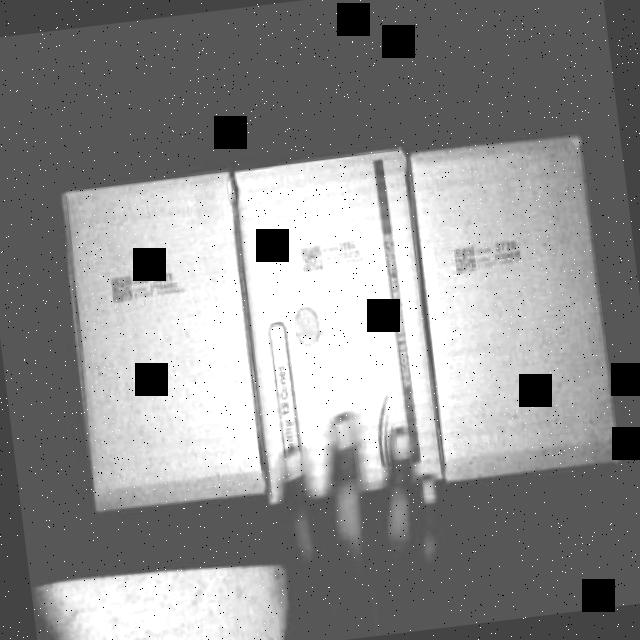box: (230, 148, 446, 504), (411, 132, 623, 480), (60, 170, 273, 506)
